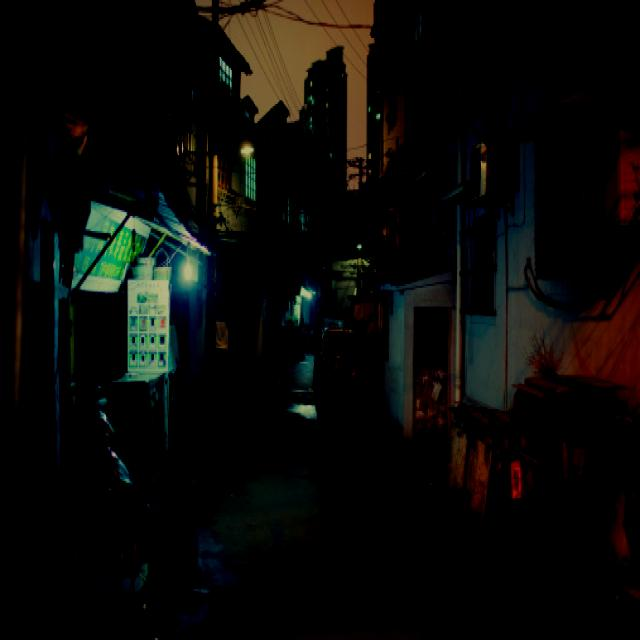Motorbike: (56, 392, 156, 580)
